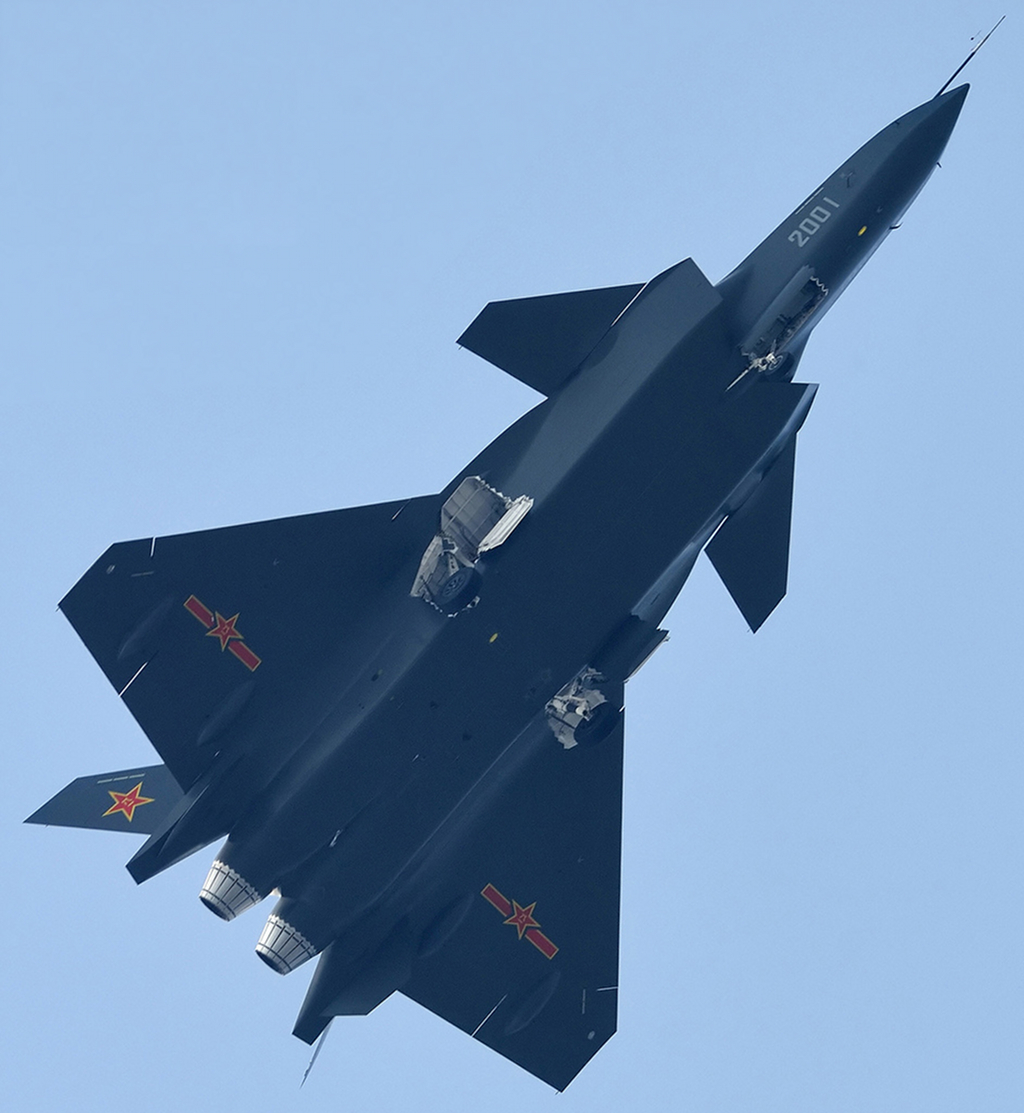J20: (21, 14, 1006, 1095)
